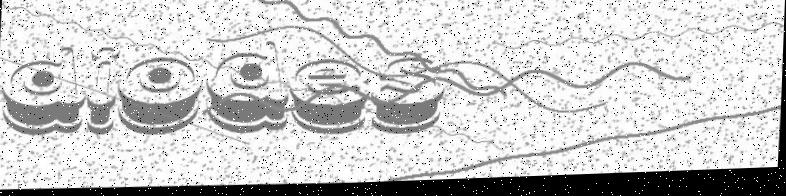d: (205, 41, 293, 137), (4, 47, 87, 136)
e: (290, 60, 368, 139)
i: (87, 49, 118, 136)
o: (117, 57, 204, 136)
s: (371, 58, 447, 138)
